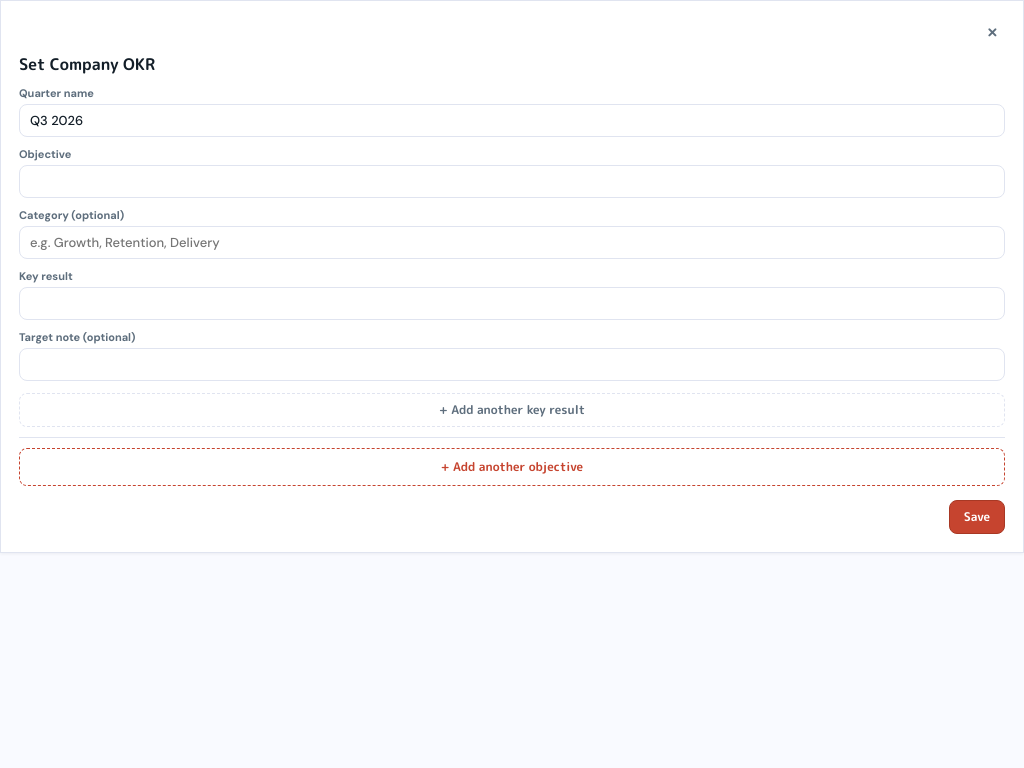
Test: CompanyOkrDialog › blocks save when the objective has no key results
Type "Grow revenue" into the field labelled "Objective". click: [512, 182]
box: [19,165,1005,198]
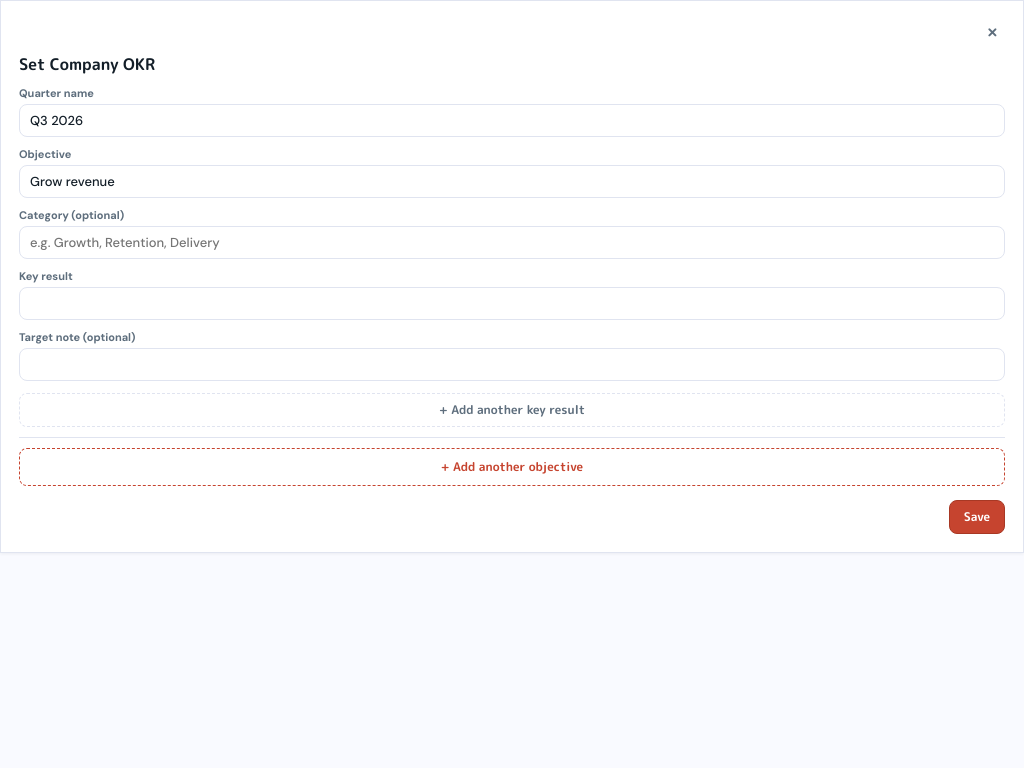
Click the button "Save". click: [977, 517]
box: [949,500,1005,534]
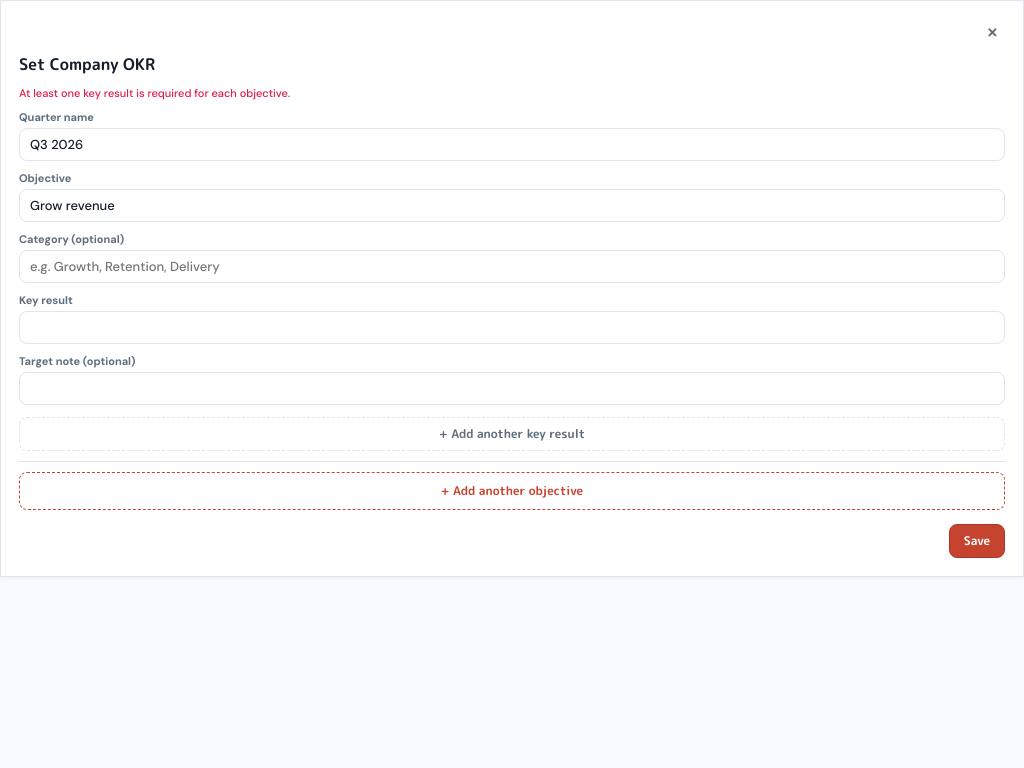
Result: the message shows "At least one key result" at [19,86,290,100]
